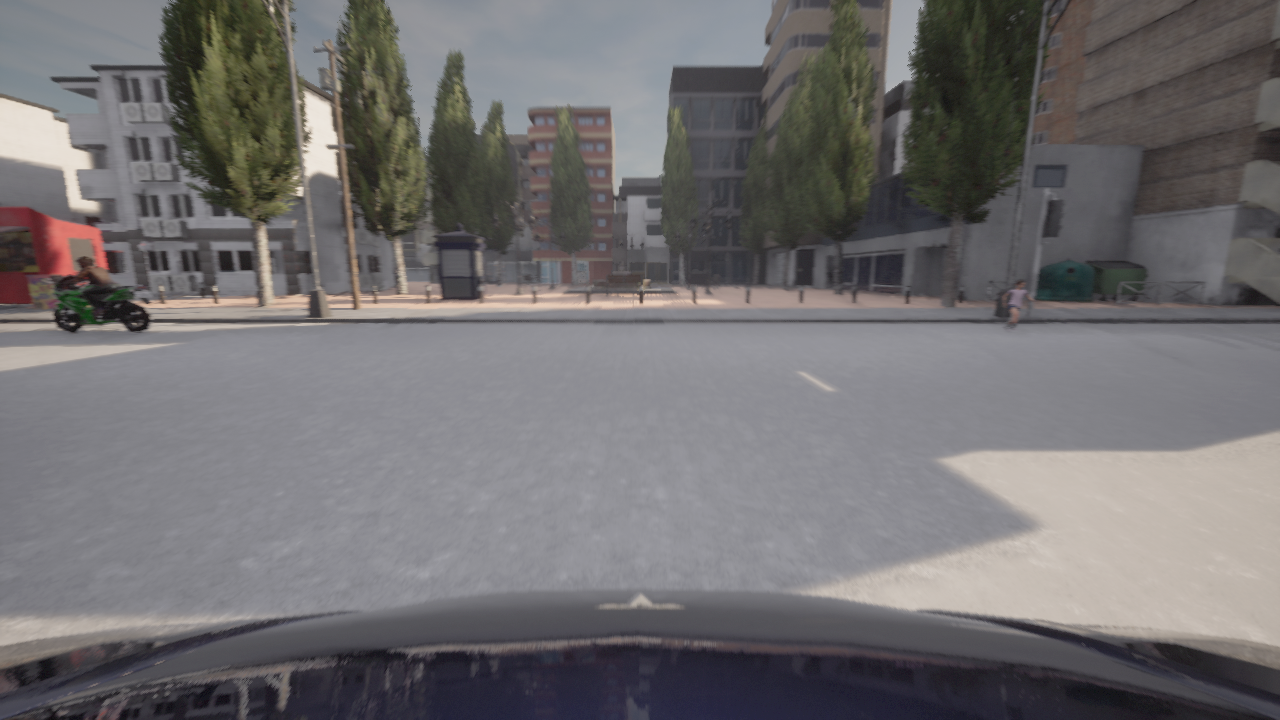cyclist: (0, 588, 1279, 719), (41, 275, 152, 332)
pedestrian: (1003, 279, 1034, 331)
